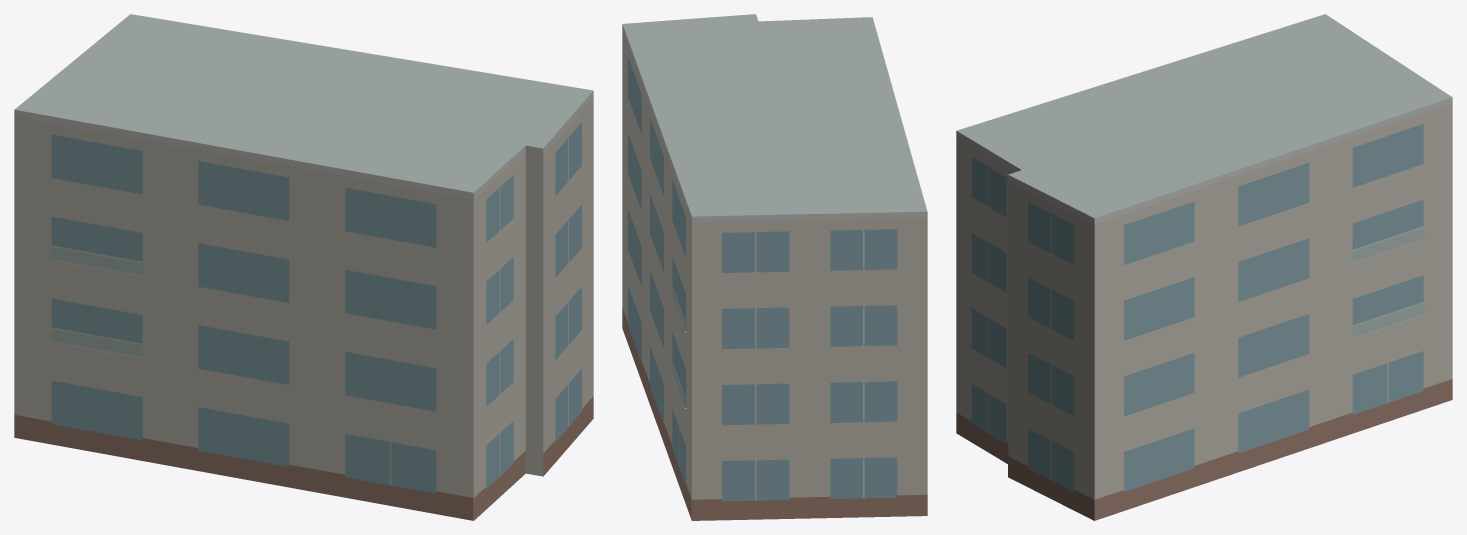
Rendered from survey-upis-32748684.glb.
3 renders of one model, left to right at view 1: azimuth 30°, elevation 25°; view 2: azimuth 150°, elevation 25°; view 3: azimuth 270°, elevation 25°, orthographic. The views are drawn at different scales.
Visible parts, largest first — view 1: survey-upis-32748684.tmp; view 2: survey-upis-32748684.tmp; view 3: survey-upis-32748684.tmp.
Boxes of the visible parts, x1,y1,x2,y2 form: survey-upis-32748684.tmp: (14, 14, 593, 520); survey-upis-32748684.tmp: (622, 14, 927, 520); survey-upis-32748684.tmp: (956, 14, 1452, 520).
Size of the model in its own units: 17.68 by 12.2 by 18.15.
